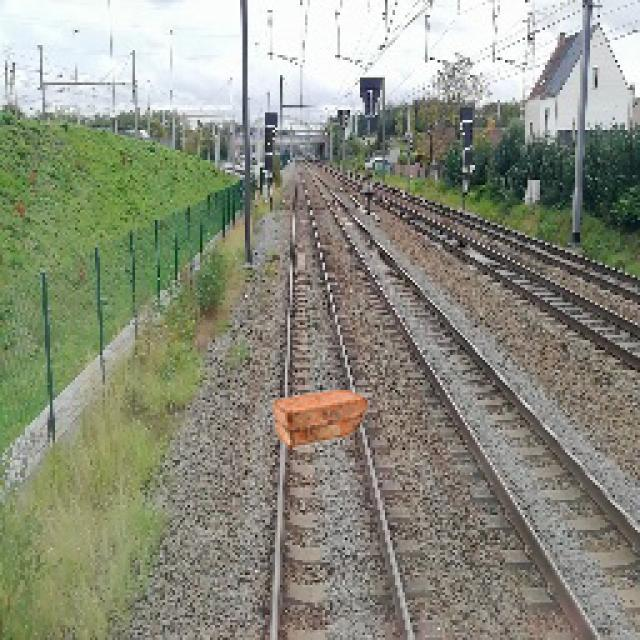danger: (266, 380, 374, 447)
rail: (237, 156, 486, 640)
